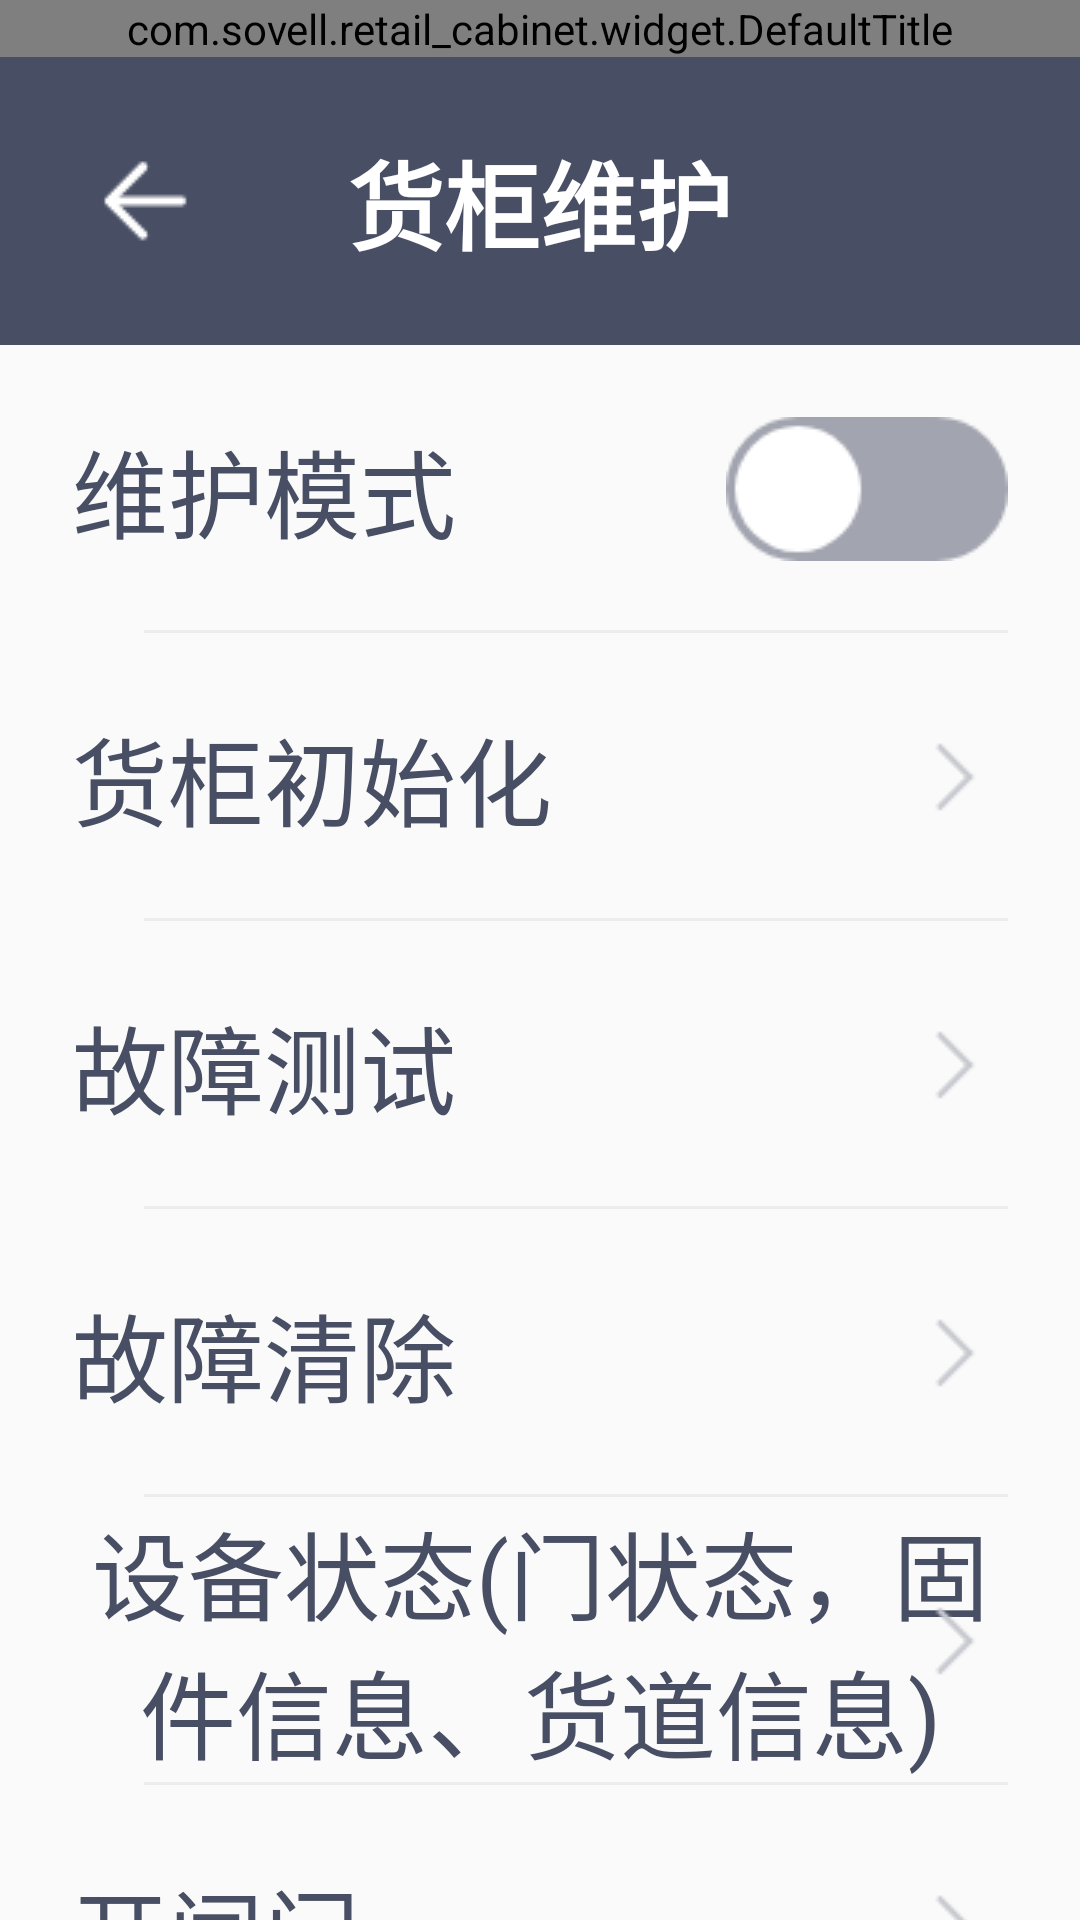

Icon bounding boxes for this 1080w x 1920h phone screenshot, format (x1, y1, x2, y2):
back: (104, 161, 187, 241)
